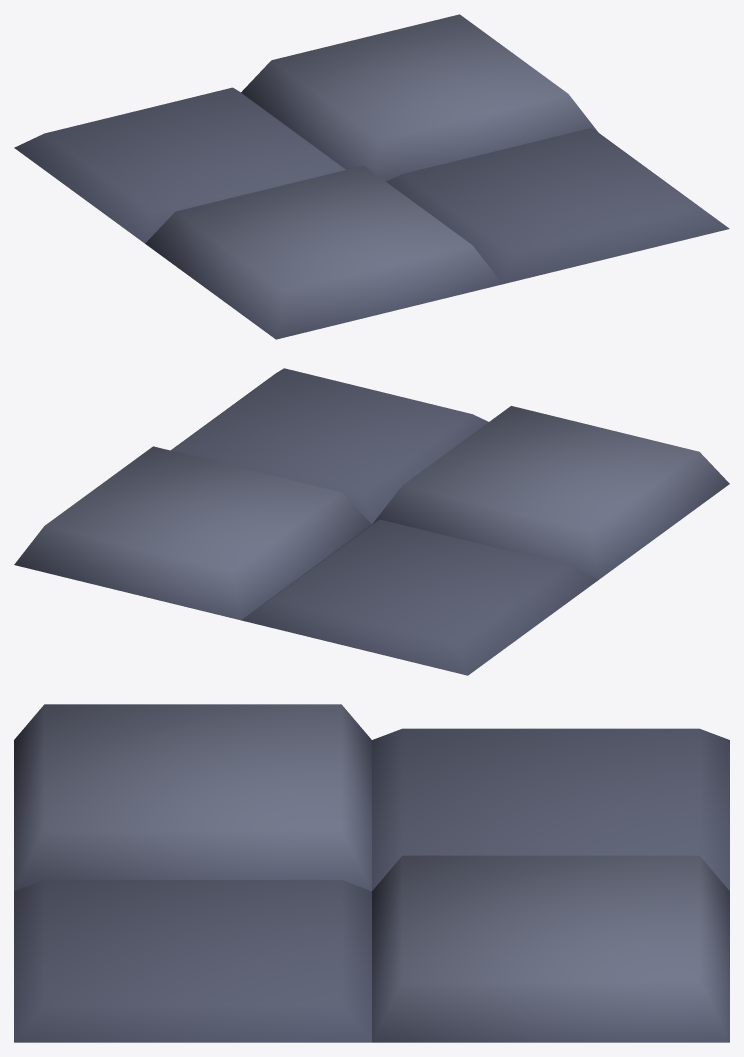
The model's file is floor-stone.glb.
3 views of the same model, one above another, from view 1: azimuth 30°, elevation 25°; view 2: azimuth 150°, elevation 25°; view 3: azimuth 270°, elevation 25° (orthographic). The views are drawn at different scales.
Visible parts, largest first — view 1: floor-stone; view 2: floor-stone; view 3: floor-stone.
Boxes of the visible parts, <box> form: floor-stone: <box>14,14,729,339</box>; floor-stone: <box>14,368,729,675</box>; floor-stone: <box>14,704,729,1042</box>.
Bounding box in the file's own units: 1 × 0.075 × 1.
